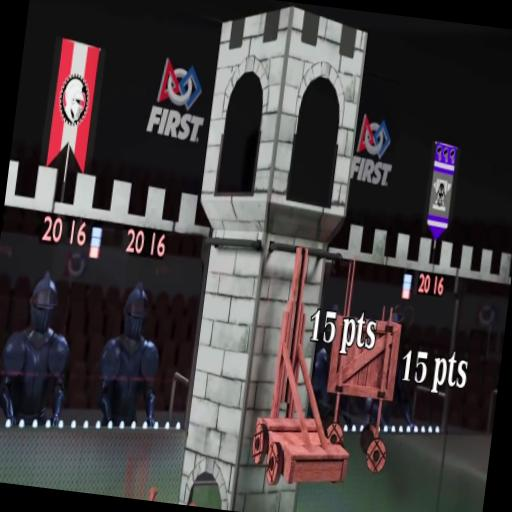robot: (248, 242, 373, 504)
